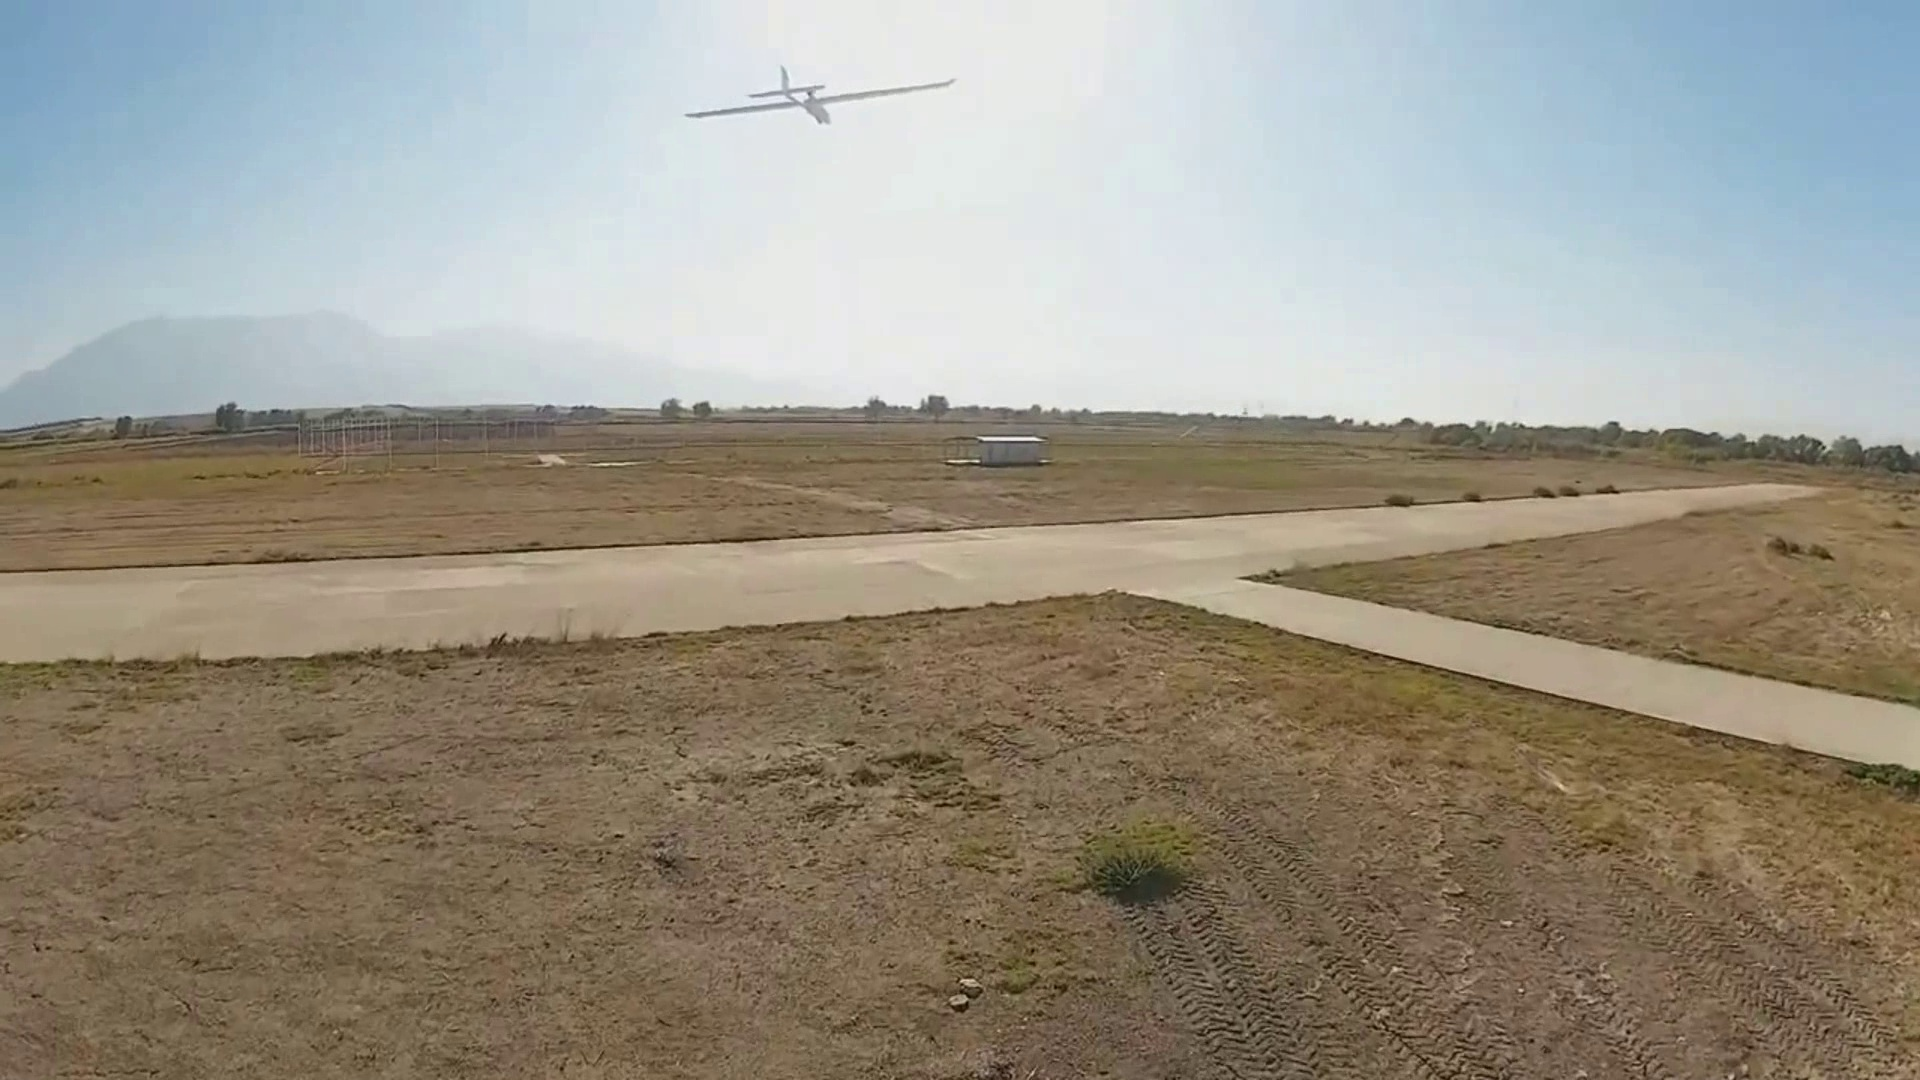airplane: (682, 65, 961, 127)
